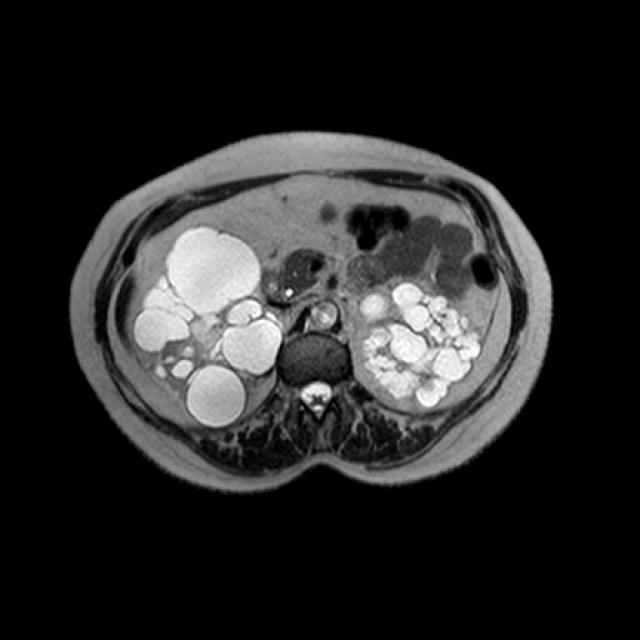sag: (130, 224, 285, 430)
sol: (346, 270, 486, 416)
